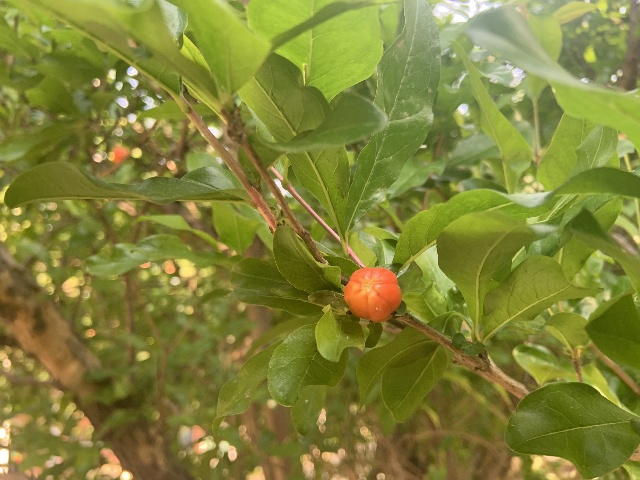bud: (344, 266, 401, 322)
